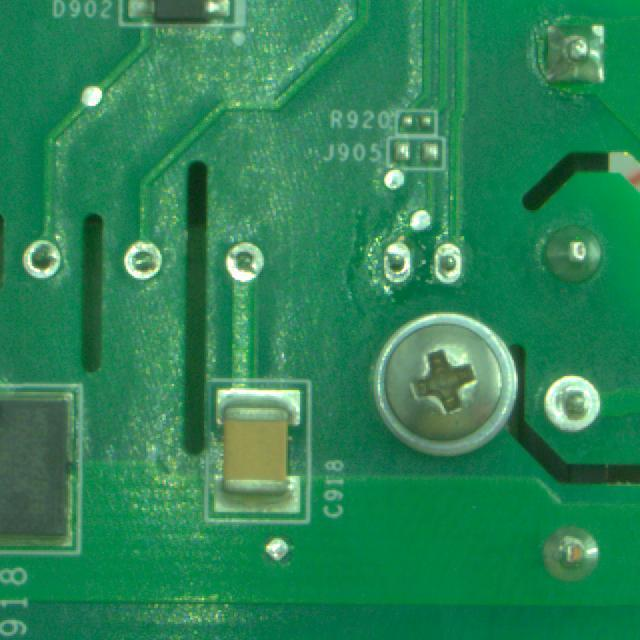Insufficient solder: (540, 368, 606, 440), (112, 235, 165, 288), (18, 236, 69, 285), (221, 233, 269, 284), (375, 236, 415, 285), (429, 238, 463, 293)
